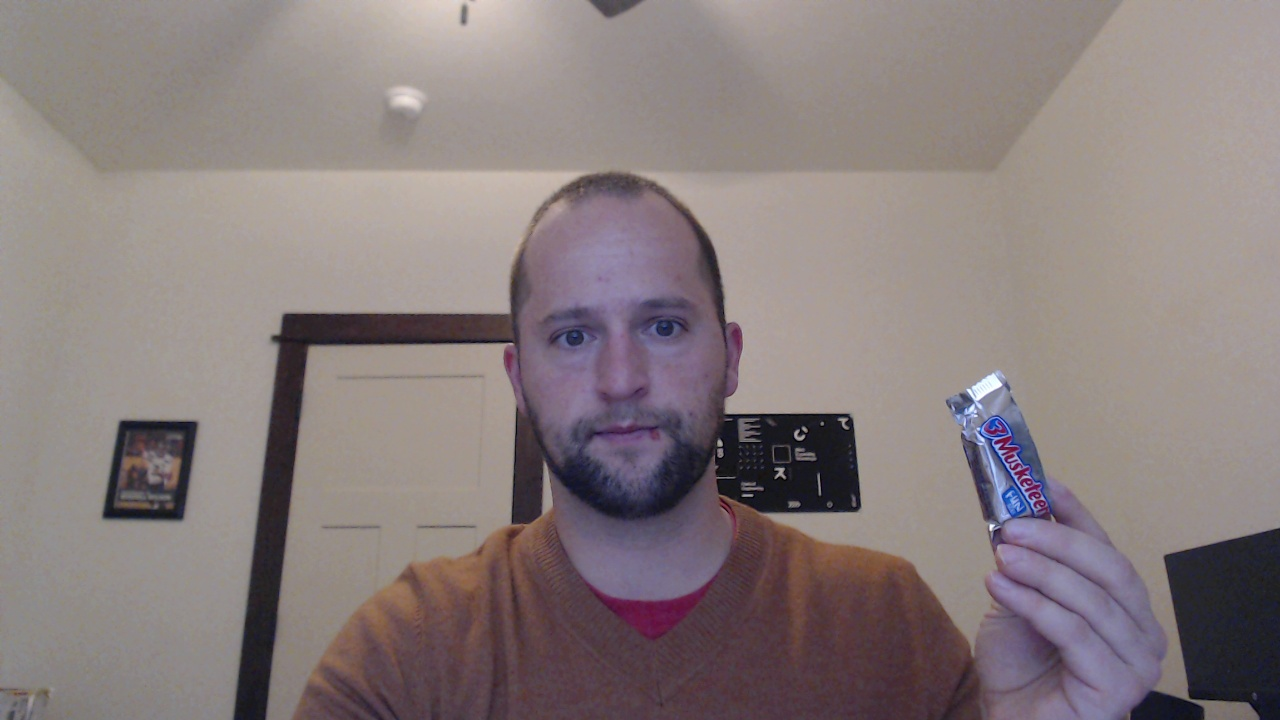three_musketeers: (937, 367, 1069, 565)
